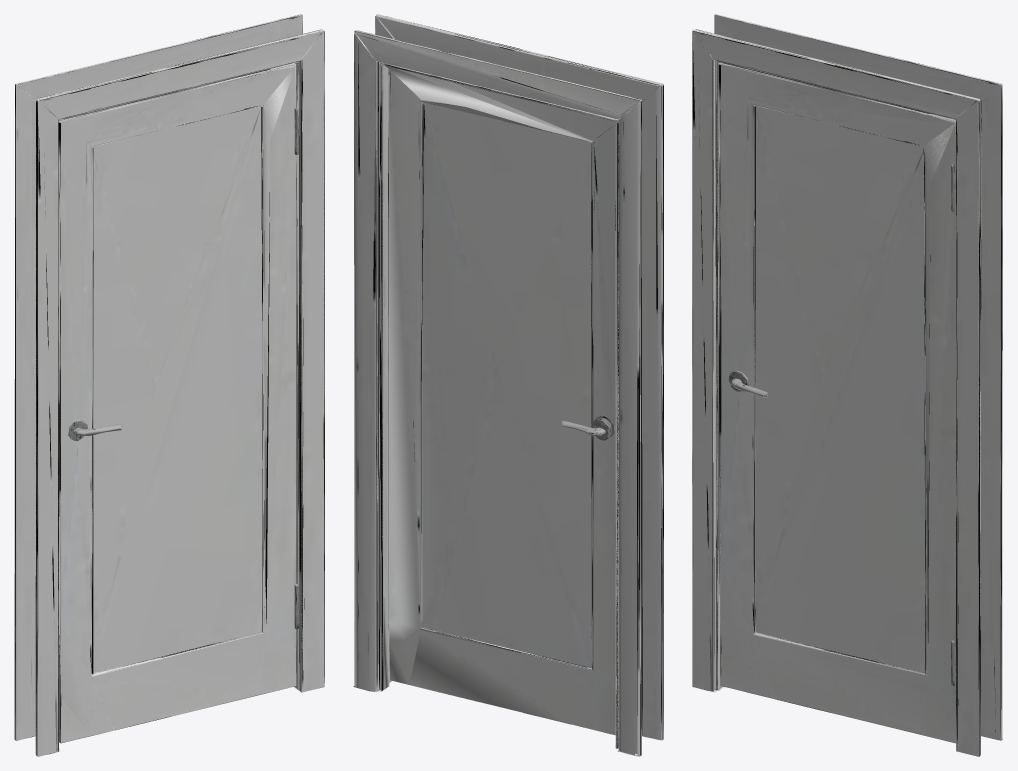
The model's file is mobile.glb.
The picture shows the model from 3 angles, left to right: view 1: azimuth 30°, elevation 25°; view 2: azimuth 150°, elevation 25°; view 3: azimuth 330°, elevation 25°; orthographic projection.
Parts seen in each view (by area): view 1: door; view 2: door; view 3: door.
Part boxes in pixels (bbox=[...]): door: bbox=[14, 14, 324, 756]; door: bbox=[353, 14, 663, 756]; door: bbox=[692, 14, 1002, 756].
Size of the model in its own units: 0.9628 by 2.1 by 0.188.
1 material, 1 textured.
